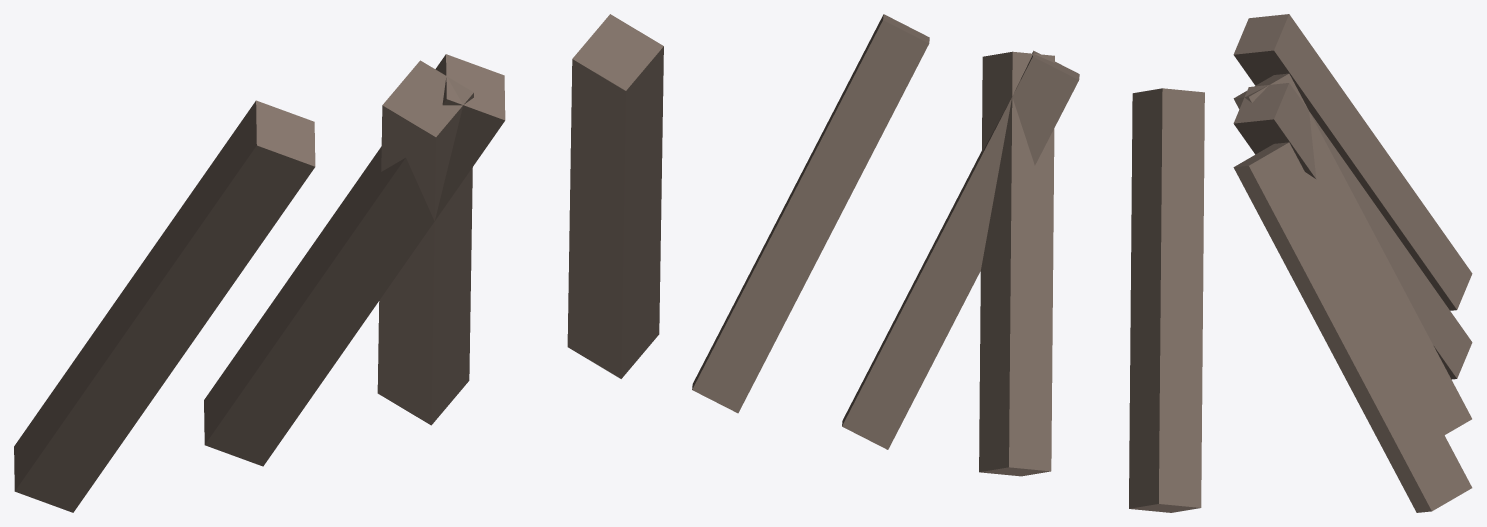
File: barricada_ruina_madeira.glb
3 views of the same model, side by side, from view 1: azimuth 30°, elevation 25°; view 2: azimuth 150°, elevation 25°; view 3: azimuth 270°, elevation 25° (orthographic). The views are drawn at different scales.
Visible parts, largest first — view 1: barricada_ruina_madeira_part_000, barricada_ruina_madeira_part_001, barricada_ruina_madeira_part_003, barricada_ruina_madeira_part_002; view 2: barricada_ruina_madeira_part_000, barricada_ruina_madeira_part_001, barricada_ruina_madeira_part_003, barricada_ruina_madeira_part_002; view 3: barricada_ruina_madeira_part_003, barricada_ruina_madeira_part_000, barricada_ruina_madeira_part_002, barricada_ruina_madeira_part_001.
Boxes of the visible parts, bbox=[...] form: barricada_ruina_madeira_part_000: bbox=[14, 100, 315, 512]; barricada_ruina_madeira_part_001: bbox=[204, 54, 505, 466]; barricada_ruina_madeira_part_003: bbox=[567, 14, 663, 378]; barricada_ruina_madeira_part_002: bbox=[377, 60, 473, 425]; barricada_ruina_madeira_part_000: bbox=[1129, 88, 1204, 512]; barricada_ruina_madeira_part_001: bbox=[979, 51, 1054, 476]; barricada_ruina_madeira_part_003: bbox=[692, 14, 929, 413]; barricada_ruina_madeira_part_002: bbox=[842, 50, 1079, 449]; barricada_ruina_madeira_part_003: bbox=[1233, 142, 1472, 512]; barricada_ruina_madeira_part_000: bbox=[1233, 14, 1472, 310]; barricada_ruina_madeira_part_002: bbox=[1233, 73, 1471, 435]; barricada_ruina_madeira_part_001: bbox=[1233, 83, 1472, 379].
Size of the model in its own units: 2.71 by 1.82 by 1.17.
